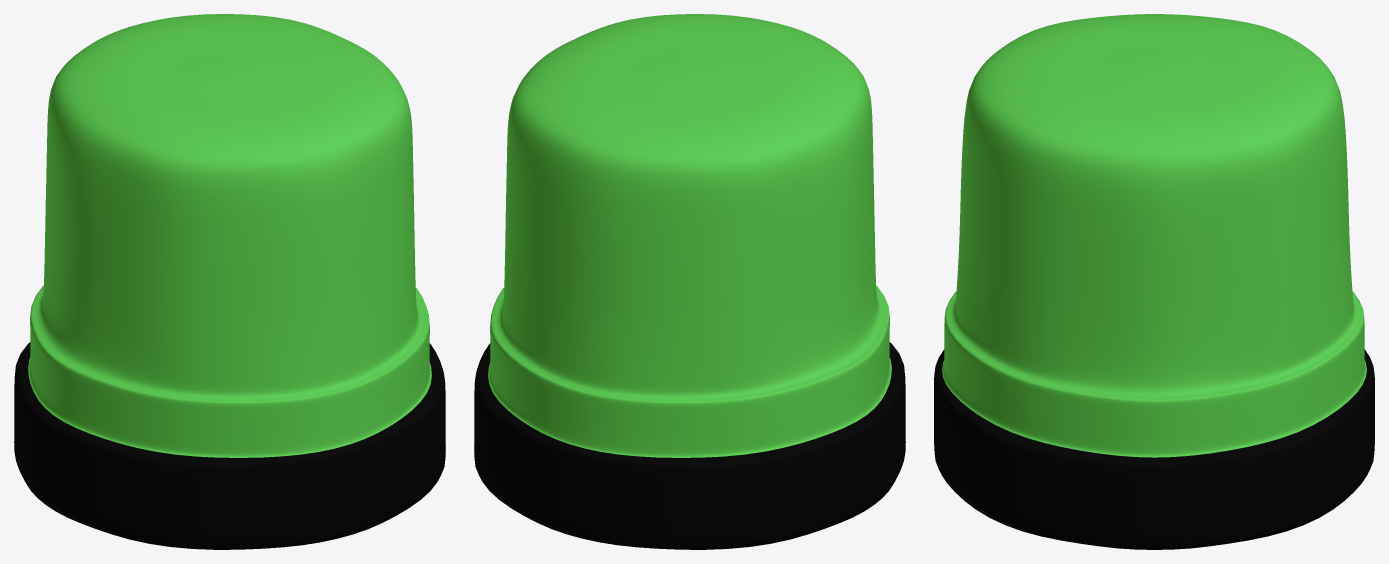
The model's file is alarm_green.glb.
The picture shows the model from 3 angles, left to right: view 1: azimuth 30°, elevation 25°; view 2: azimuth 150°, elevation 25°; view 3: azimuth 270°, elevation 25°; orthographic projection.
Visible parts, largest first — view 1: Sphere; view 2: Sphere; view 3: Sphere.
Boxes of the visible parts, bbox=[...] form: Sphere: bbox=[14, 14, 445, 549]; Sphere: bbox=[474, 14, 905, 549]; Sphere: bbox=[934, 14, 1374, 549].
Size of the model in its own units: 2.01 by 2.03 by 2.03.
